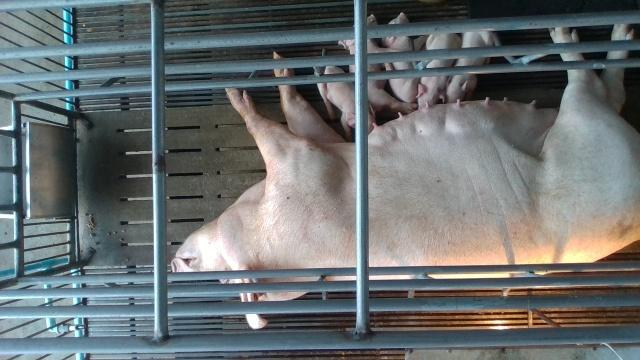piglet: (340, 13, 418, 115), (441, 29, 502, 105), (316, 65, 376, 142), (382, 11, 429, 103), (415, 32, 462, 112)
sow-sleep-lactate: (170, 26, 640, 330)
